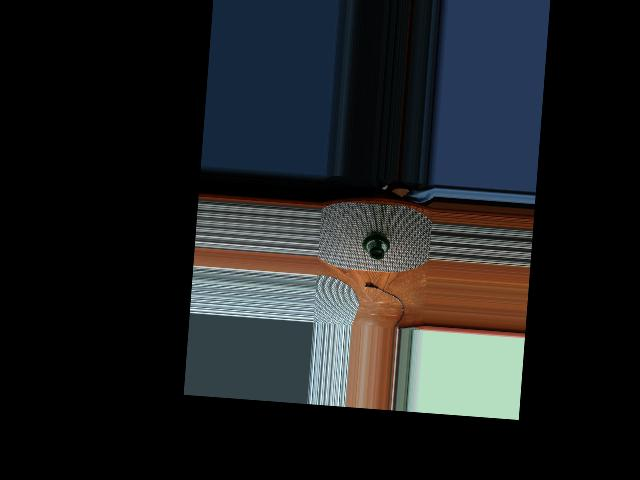beer: (362, 230, 389, 259)
